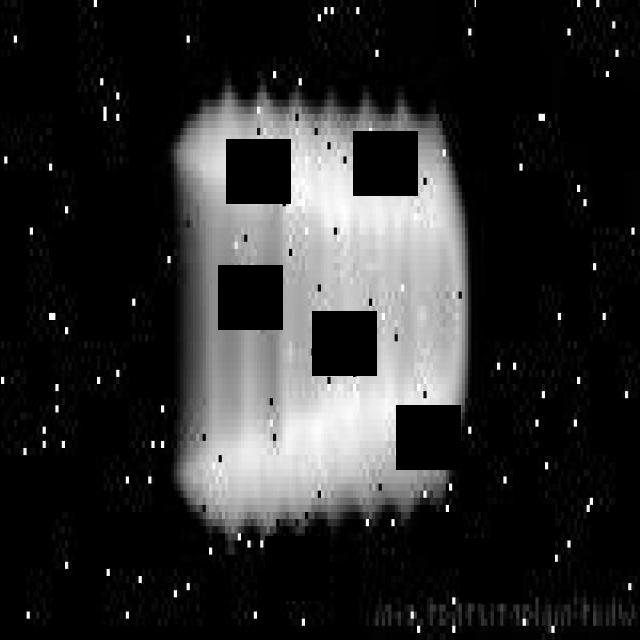Titan Implant Implant: (166, 76, 486, 548)
